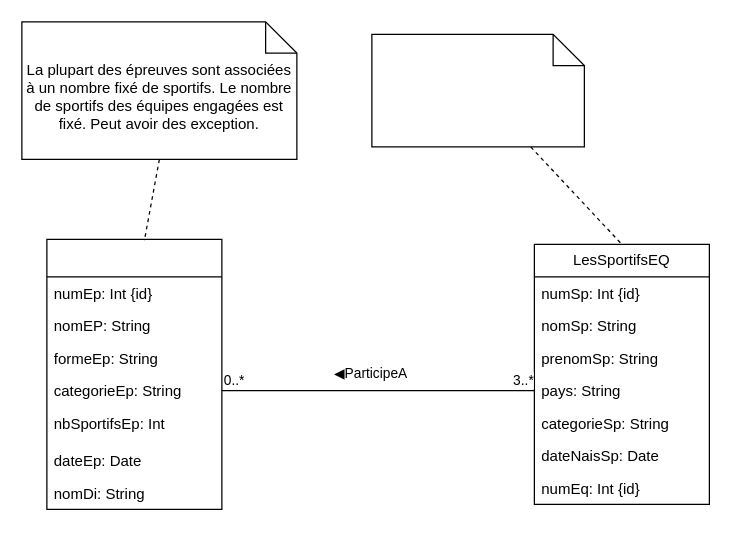
Image size: 731x535. Some labels were removed from this diagram. Each missing label, with the box of its shape:
LesEpreuves: (46, 238, 222, 509)
Tous les sportifs qui sont dans une même équipe sont de même nationalité: (371, 33, 584, 147)
